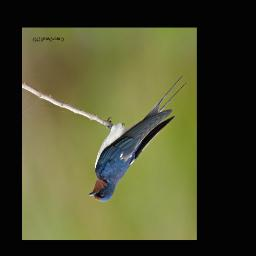Swallow: (88, 75, 188, 202)
